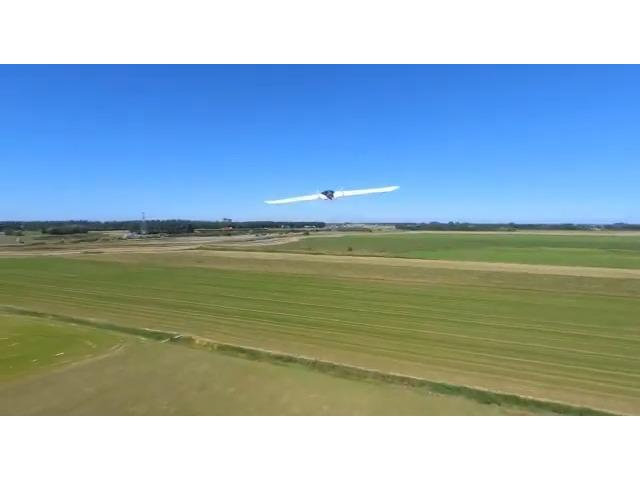Anti-Drone: (260, 178, 412, 214)
